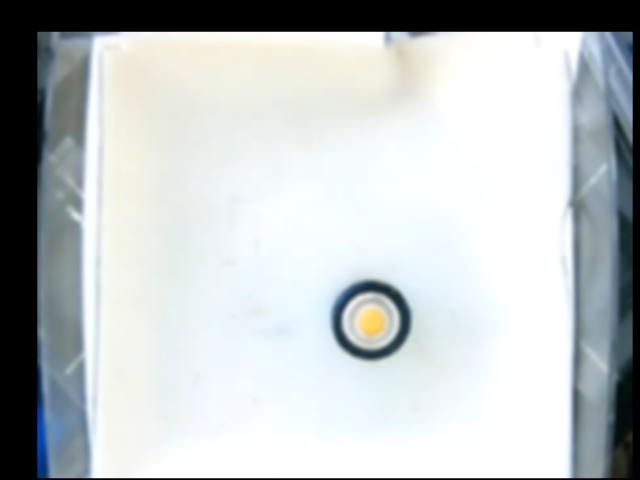Battery: (329, 277, 414, 363)
